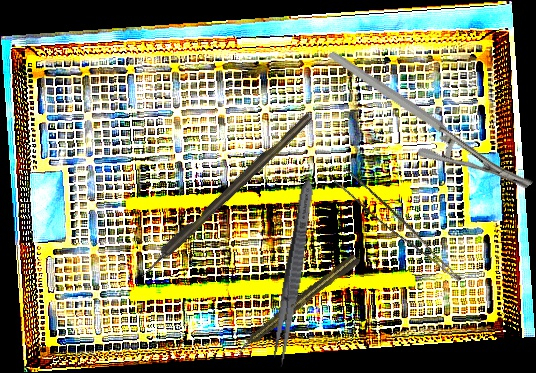Dressing Forceps: (269, 177, 318, 369)
Handpiece: (231, 251, 363, 358)
Hook Surgical: (136, 112, 314, 280)
Needle Holder: (326, 2, 535, 236)
Tissue Forceps: (330, 166, 473, 283)
